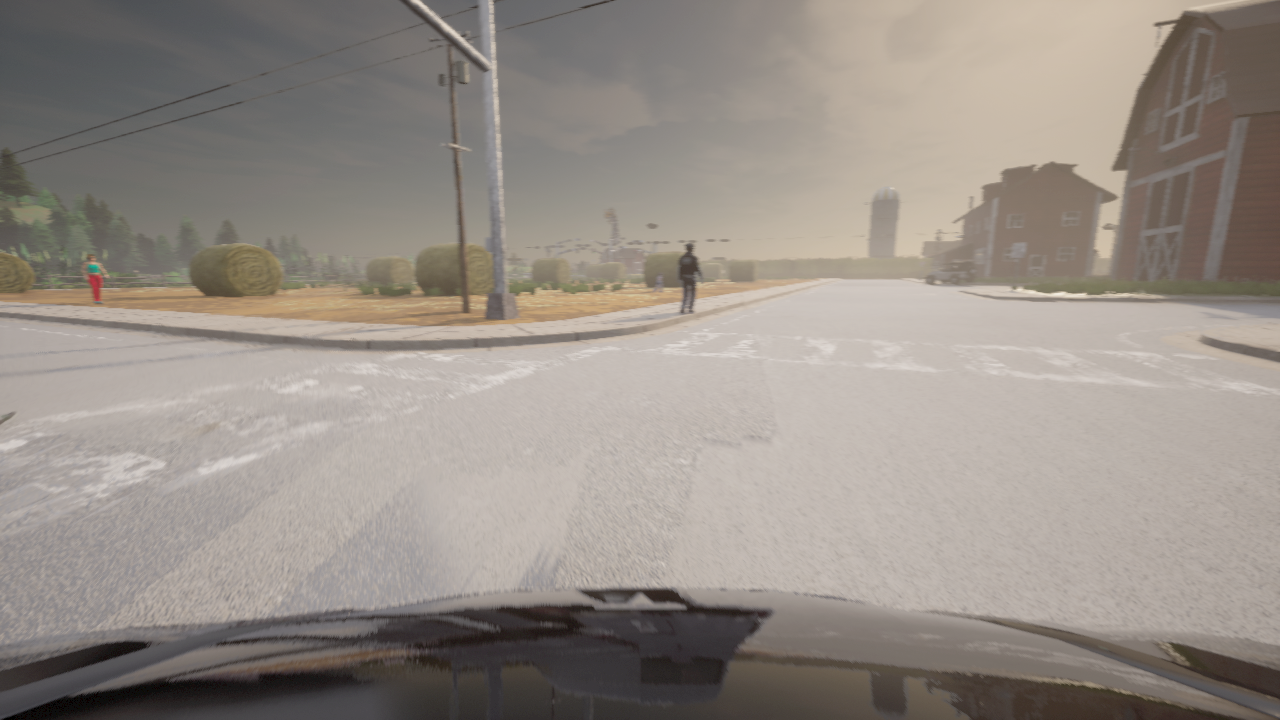cyclist: (0, 588, 1279, 719), (924, 260, 977, 285)
pedestrian: (678, 244, 702, 313), (82, 254, 107, 303), (0, 411, 18, 426), (654, 273, 661, 291)
